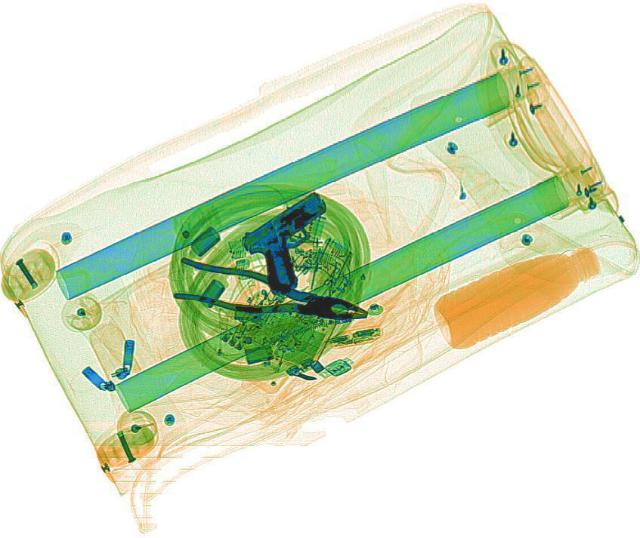Gun: (223, 188, 369, 296)
Pliers: (166, 255, 374, 333)
